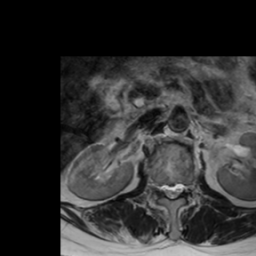CCS_severe_stenosis: (168, 176, 176, 204)
LFS_normal: (184, 175, 191, 199)
LLS_normal: (176, 176, 184, 200)
RFS_normal: (153, 177, 161, 197)
RLS_normal: (161, 177, 168, 200)
